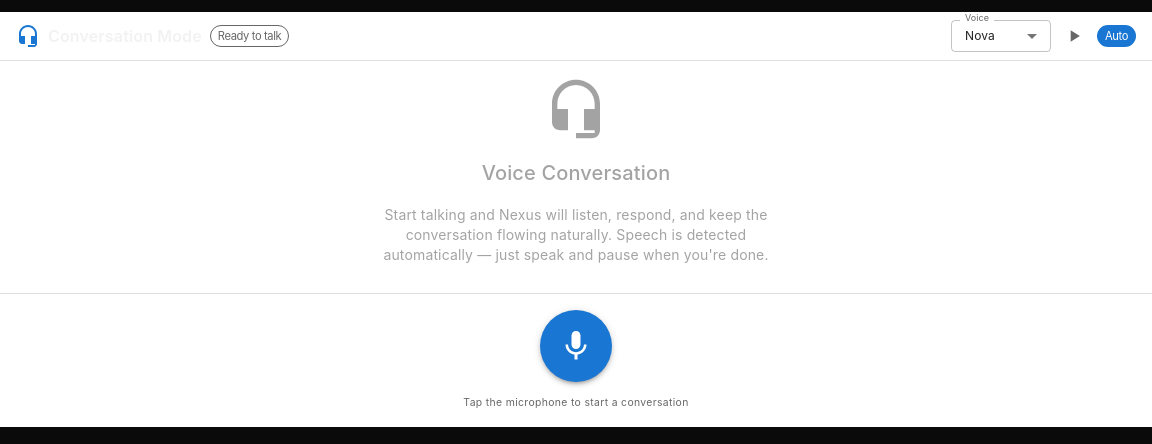
ConversationMode — Interrupt / Barge-in › no interrupt during idle/listening/processing states
Expected: the text "Ready to talk" is shown, [218,29,281,43]
What coordinates should you click on to do the following:
click the button with test id "MicIcon"
I would click on:
 (576, 346)
Its box is [540,310,612,382].
Wait 500 ms
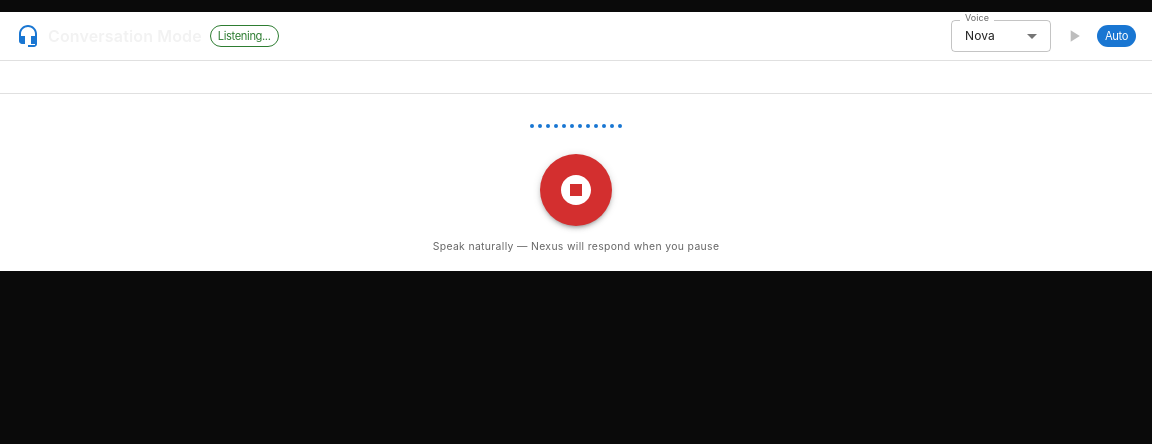
Result: the text "Listening..." is shown at [218,29,270,43]
